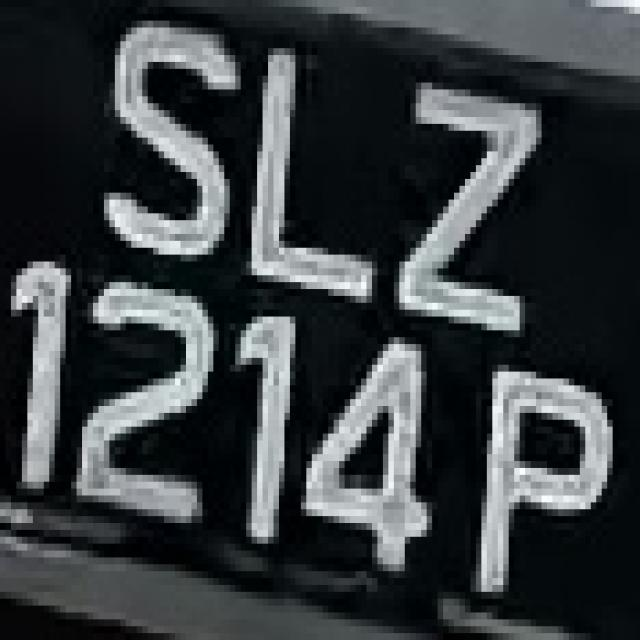1: (225, 296, 318, 557), (6, 227, 71, 516)
2: (93, 234, 202, 564)
4: (306, 310, 427, 606)
L: (235, 42, 378, 330)
P: (465, 330, 613, 606)
S: (82, 14, 252, 275)
Z: (378, 55, 542, 344)
